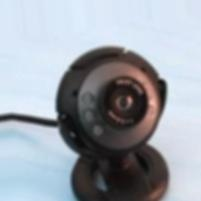webcam: (51, 43, 170, 163)
